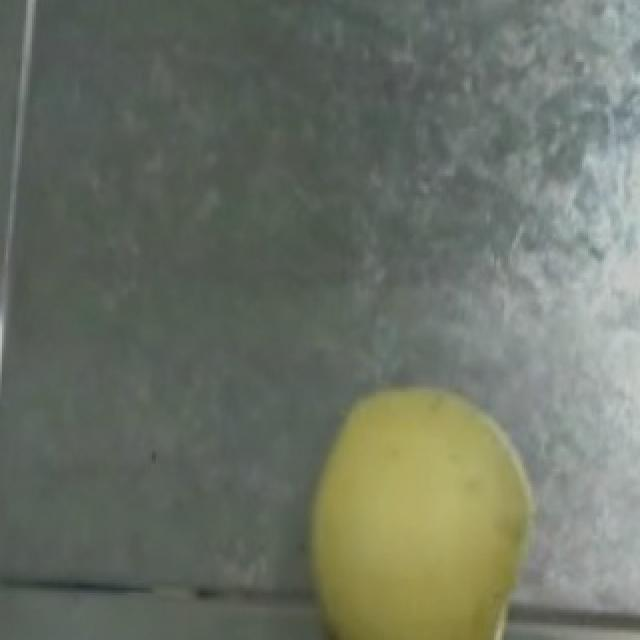Fruit: (268, 359, 576, 640)
